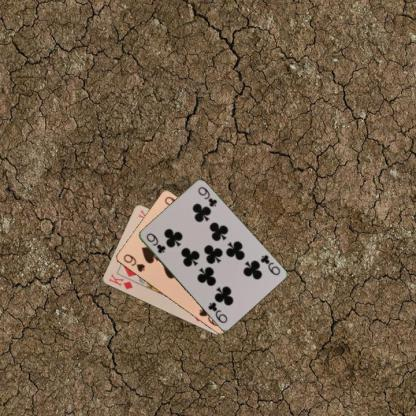9c: (258, 252, 281, 277), (144, 230, 166, 255)
9s: (121, 252, 146, 274)
Kd: (106, 272, 134, 290)
